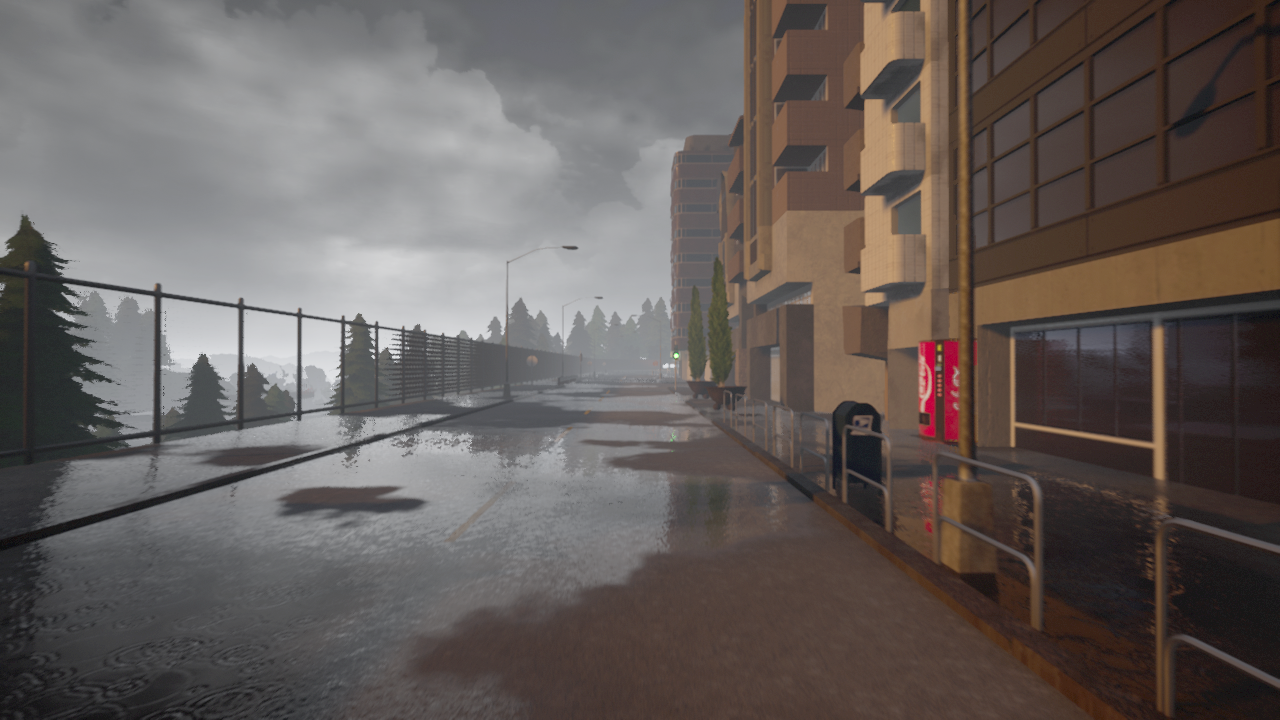green: (673, 344, 680, 360)
